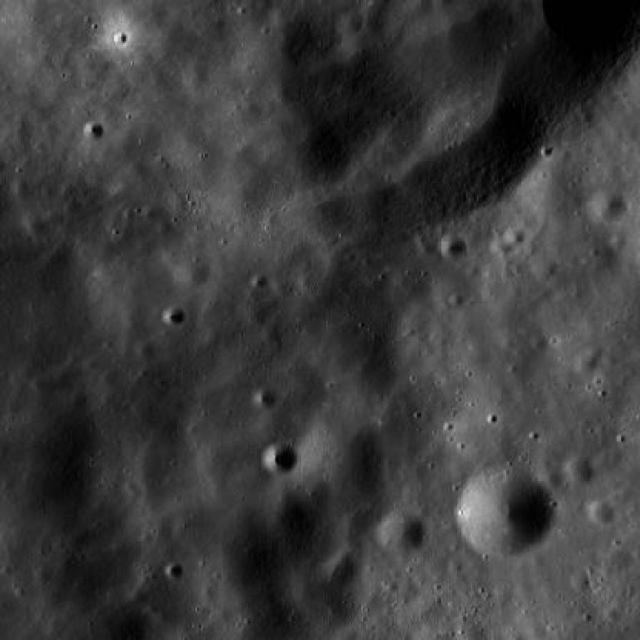crater: (0, 488, 131, 616), (456, 465, 553, 558), (297, 420, 385, 502), (324, 335, 401, 408), (209, 527, 283, 598), (292, 562, 358, 626), (520, 160, 586, 222), (270, 491, 319, 538), (378, 510, 424, 553), (198, 440, 238, 478), (590, 188, 630, 225), (263, 441, 297, 474), (174, 255, 208, 288), (322, 550, 356, 582), (239, 294, 272, 324), (565, 456, 593, 482), (464, 344, 492, 370), (441, 232, 468, 258), (337, 10, 363, 36), (588, 499, 614, 524), (26, 213, 52, 238), (254, 387, 278, 410), (574, 351, 598, 374), (534, 256, 558, 278), (163, 306, 186, 328), (362, 15, 384, 37), (360, 0, 391, 15), (408, 0, 432, 17), (11, 179, 31, 198), (506, 226, 526, 245), (493, 234, 513, 253), (570, 570, 590, 588), (84, 122, 102, 140), (418, 239, 437, 256), (166, 560, 183, 578), (546, 470, 563, 487), (137, 339, 154, 356), (34, 566, 51, 582)
